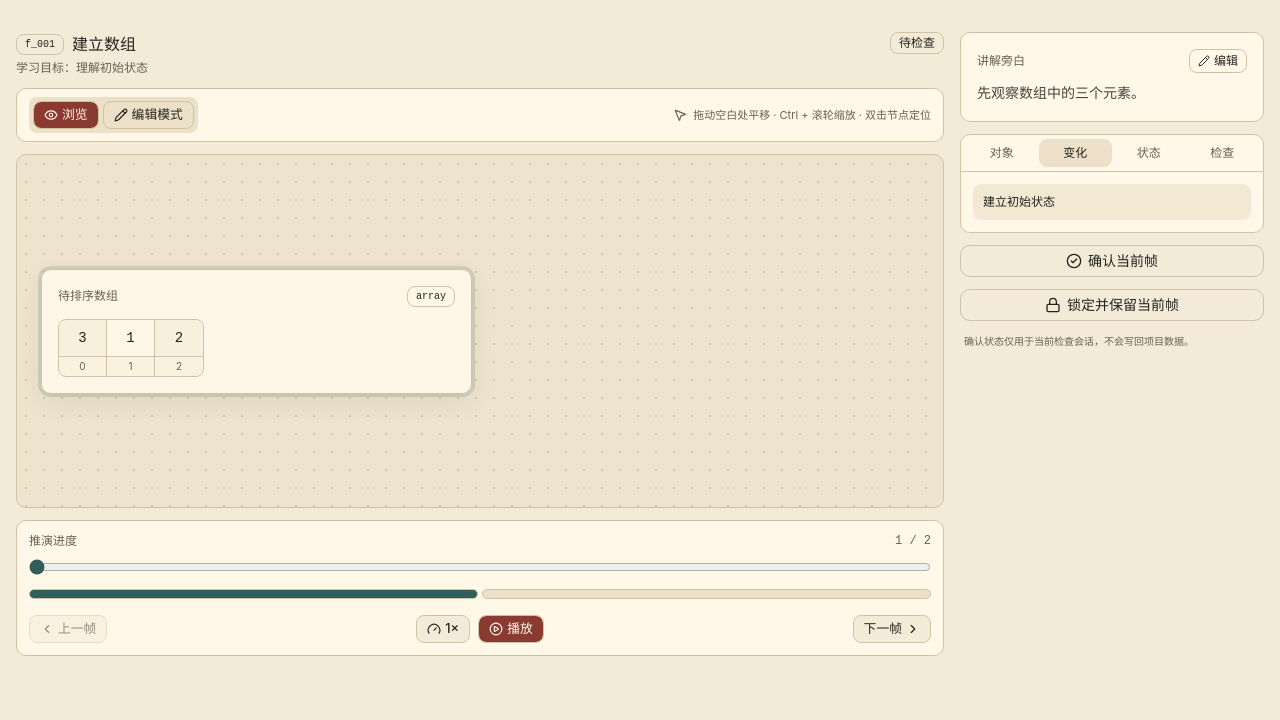
it: FrameWorkbench › edits, saves, and locks a frame through the existing APIs
Step 1. Click the button "编辑" → x=1218, y=61, box [1189,49,1247,73]
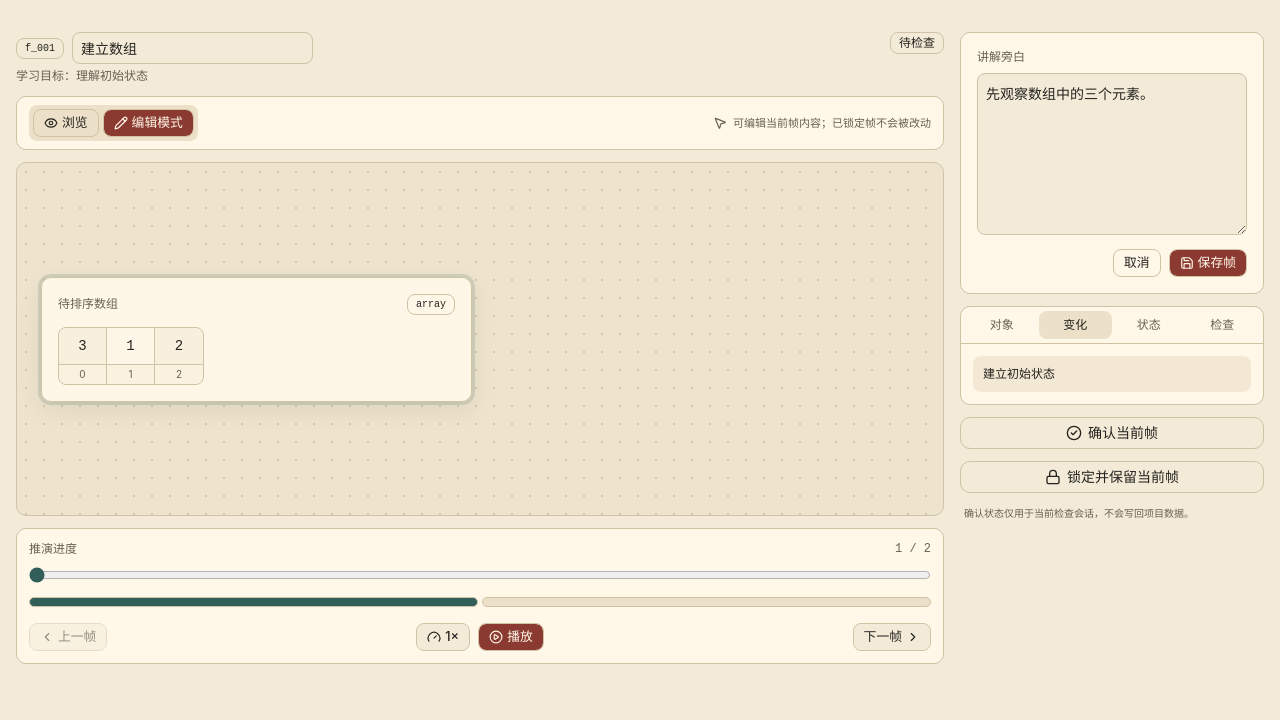
Step 2. Replace the text in the field named "帧标题" with "新的标题" → x=192, y=48, box [72,32,313,64]
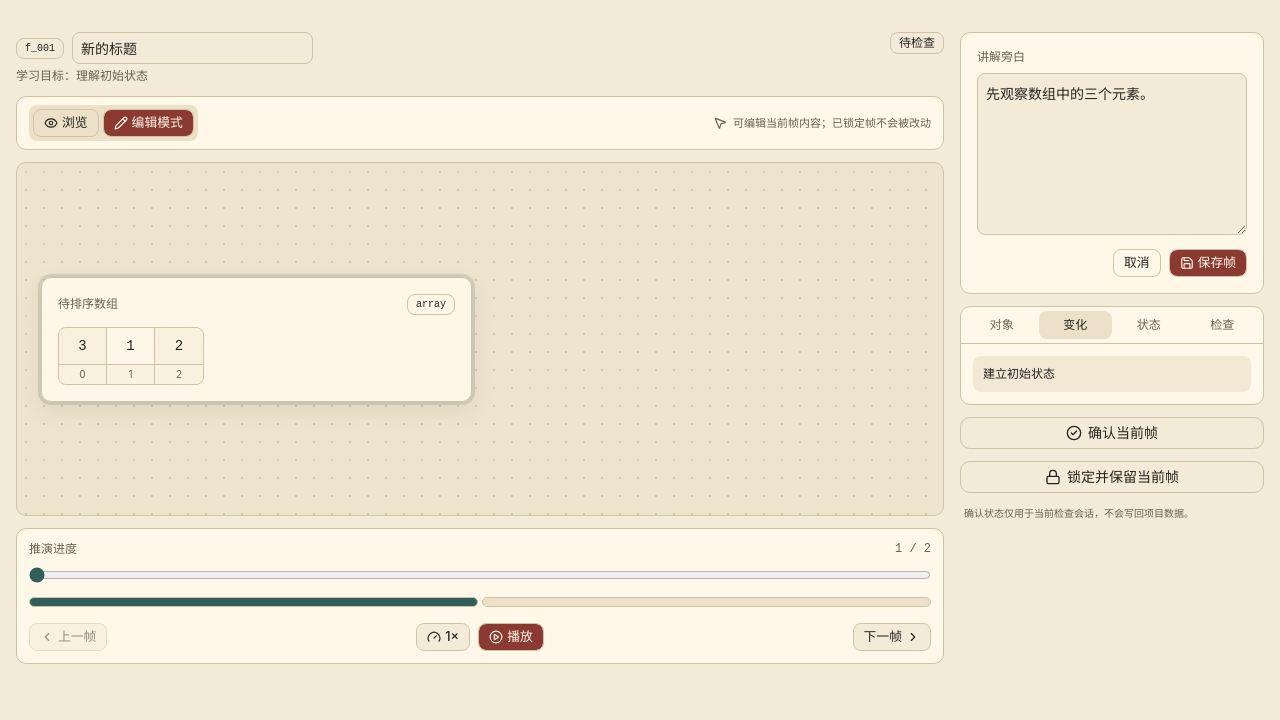
Step 3. Replace the text in the text box named "帧旁白" with "新的旁白" → x=1112, y=154, box [977,73,1247,235]
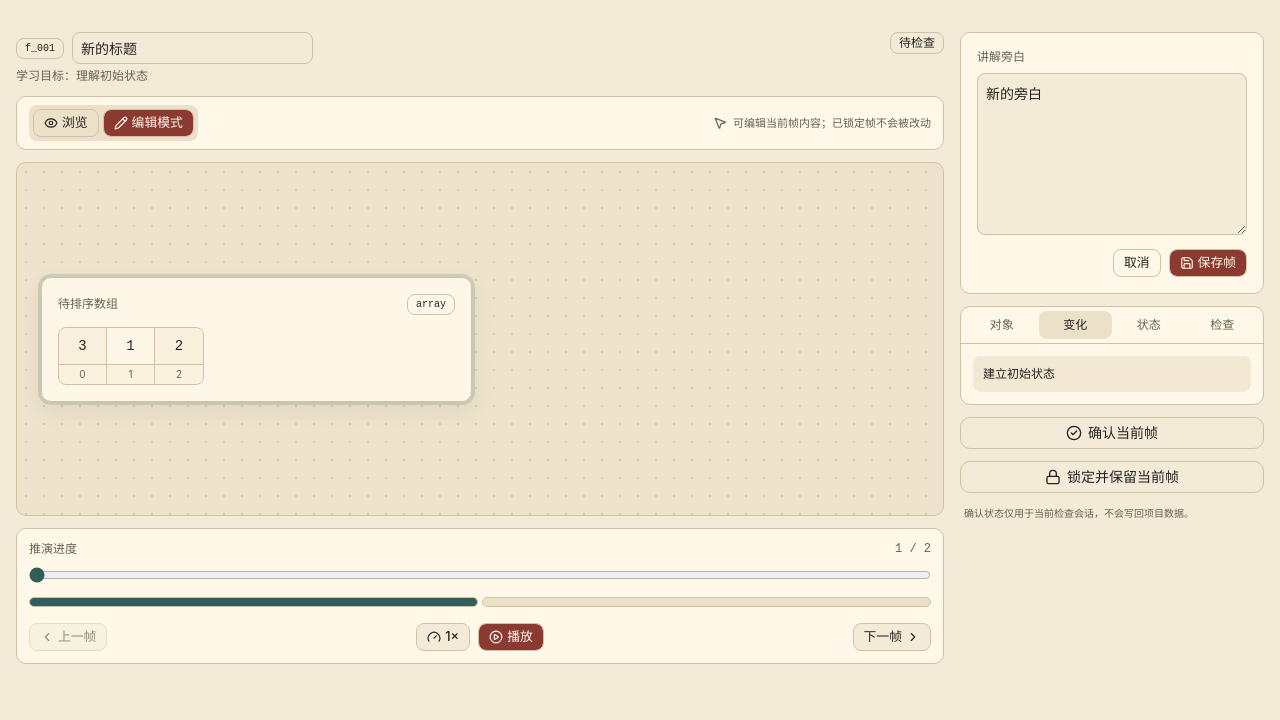
Step 4. Click the button "保存帧" → x=1208, y=263, box [1169,249,1247,277]
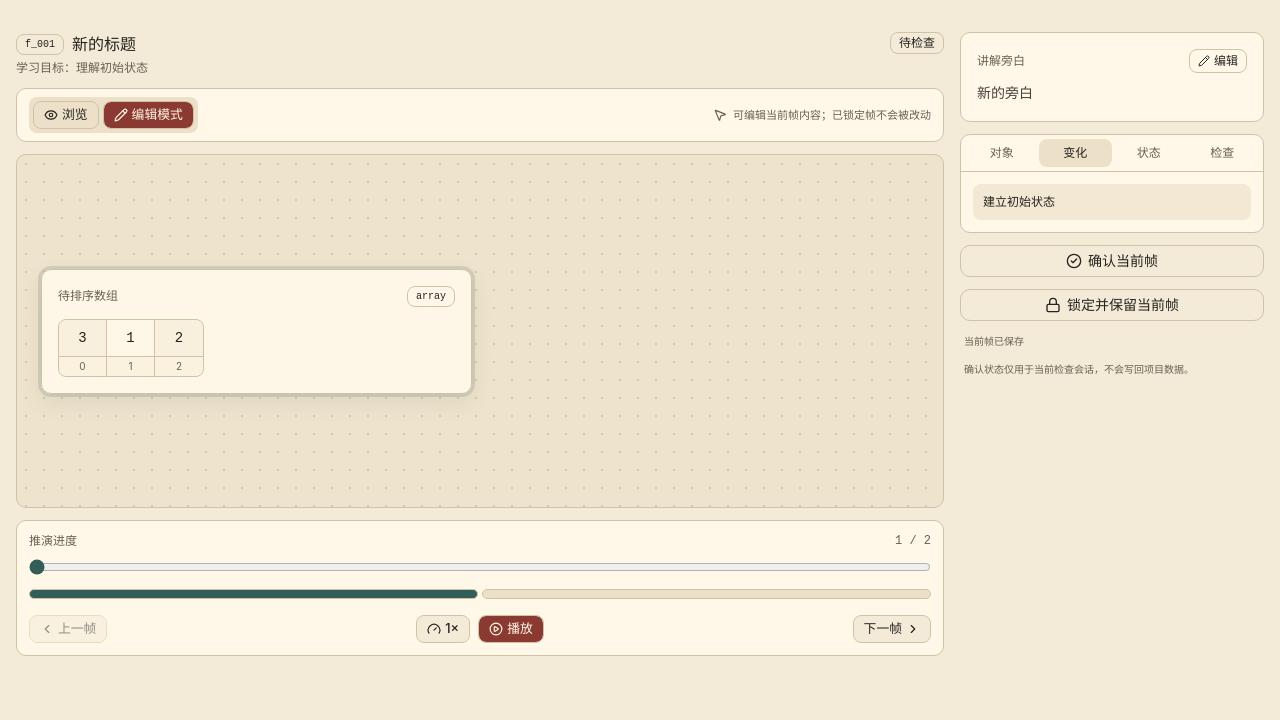
expect the heading "新的标题" is shown: met, box [72,32,136,56]
Step 5. Click the button "锁定并保留当前帧" → x=1112, y=305, box [960,289,1264,321]
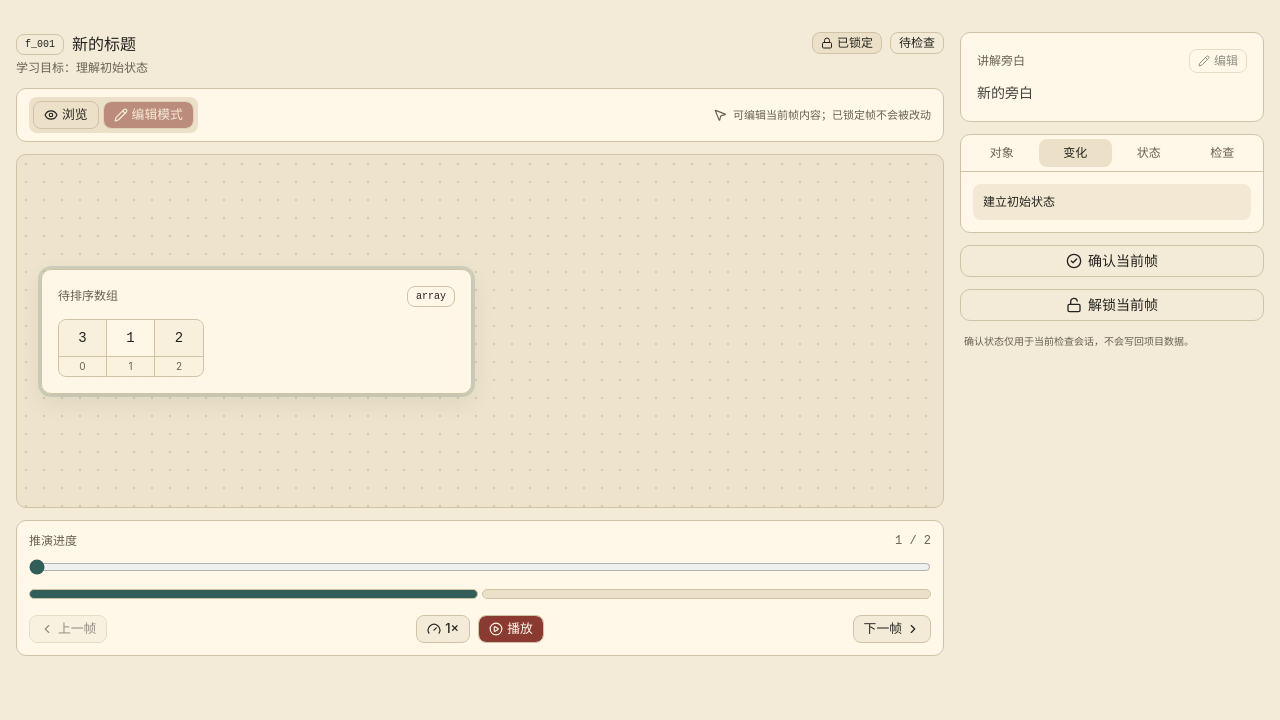
expect the text "已锁定" is shown: met, box [812,32,882,54]
